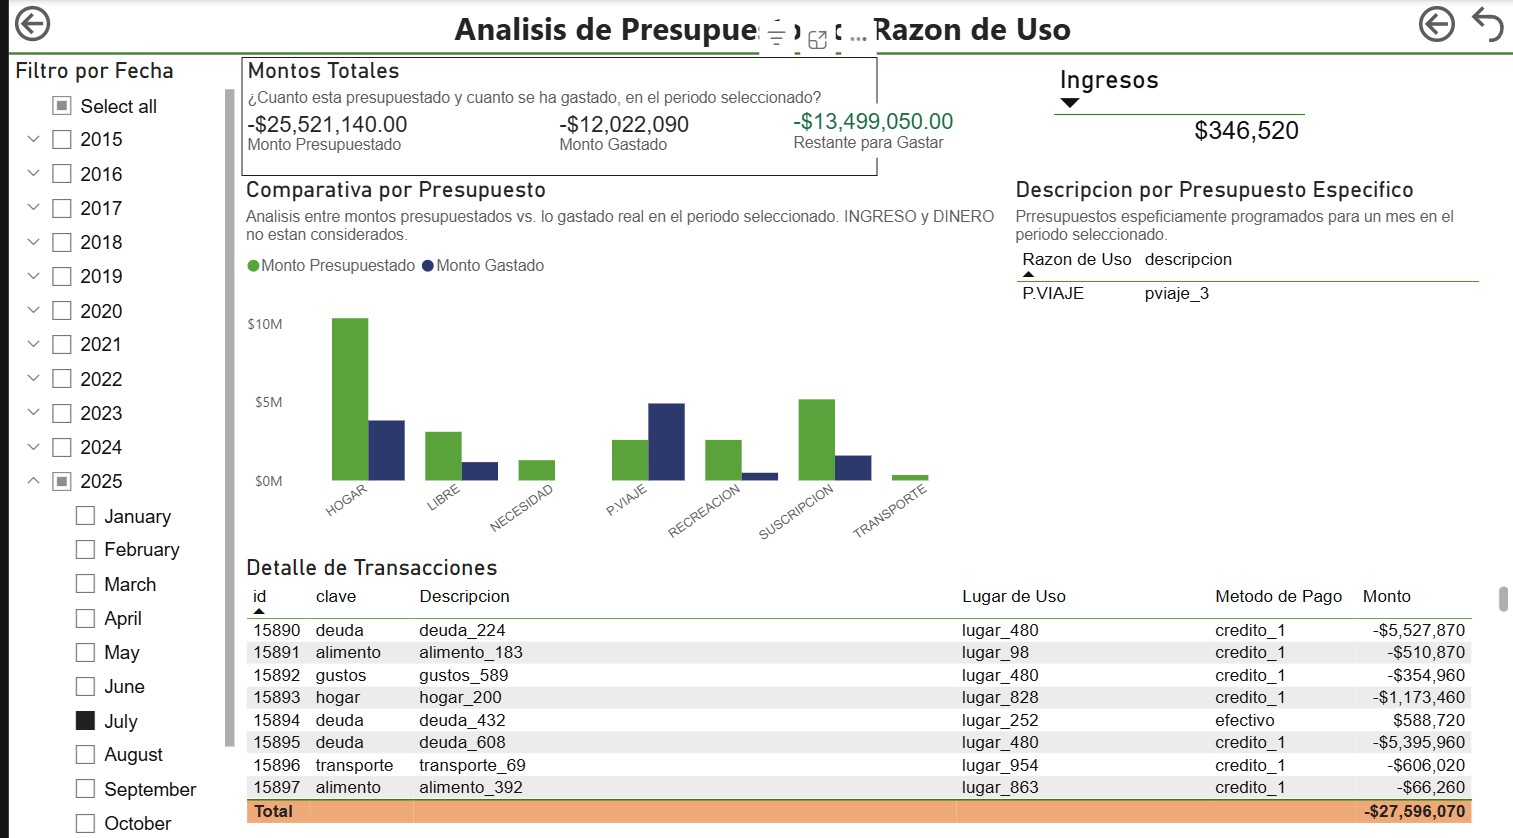

The page's visual inventory and layout, read from the dashboard file:
{"tool":"powerbi","page":{"name":"Reporte Presupuesto","canvas":[1280,720],"ordinal":2},"visuals":[{"type":"textbox","box":[259.8,0,760.4,48.1],"z":0,"group":"g1"},{"type":"tableEx","title":"Detalle de Transacciones","fields":{"Values":["c_diaria.id","c_diaria.clave","c_diaria.descripcion","c_diaria.lugar_de_uso","c_diaria.metodo_pago","Sum(c_diaria.monto)"]},"box":[195.9,470.2,1082.1,233.6],"z":0},{"type":"actionButton","box":[1235,0,44.6,40.7],"z":1000},{"type":"shape","box":[0,32.8,1280,24.6],"z":1000,"group":"g1"},{"type":"slicer","title":"Filtro por Fecha","fields":{"Values":["Calendario.Fecha.Variation.Date Hierarchy.Year","Calendario.Fecha.Variation.Date Hierarchy.Month"]},"box":[0,48.4,196.1,668.4],"z":2000},{"type":"tableEx","title":"Descripcion por Presupuesto Especifico","fields":{"Values":["presupuesto.razon_uso","presupuesto.descripcion"]},"box":[849.2,149,429.1,320.9],"z":3000},{"type":"group","id":"g1","title":"Title & Line","box":[0,0,1280,57.4],"z":4000},{"type":"actionButton","box":[1191.7,0,43.3,40.7],"z":5000},{"type":"actionButton","box":[0,0,100,40],"z":6000},{"type":"clusteredColumnChart","title":"Comparativa por Presupuesto","fields":{"Category":["dim_razon_uso.razon_uso"],"Y":["DAX measure.Monto Presupuestado(Visual)","DAX measure.Monto Gastado (Visual)"]},"box":[196.1,149,653.2,320.9],"z":7000},{"type":"multiRowCard","title":"Montos Totales","fields":{"Values":["DAX measure.Monto Presupuestado","DAX measure.Monto Gastado Dinamico"]},"box":[197.3,48.4,539.8,100.6],"z":8000},{"type":"multiRowCard","title":"Restante para Gastar","fields":{"Values":["DAX measure.Restante para Gastar"]},"box":[660.8,87.9,188.4,45.8],"z":9000},{"type":"tableEx","fields":{"Values":["Sum(c_diaria.monto)"]},"box":[881.1,48.4,250.8,90.4],"z":10000}]}

Visuals, with their boxes on the page's 1280x720 design canvas (x1, y1, x2, y2). These are canvas units, not pixel positions in the 1513x838 screenshot, which may show the page scaled, cropped or inside an application window:
textbox: <bbox>260, 0, 1020, 48</bbox>
"Detalle de Transacciones" tableEx: <bbox>196, 470, 1278, 704</bbox>
actionButton: <bbox>1235, 0, 1280, 41</bbox>
shape: <bbox>0, 33, 1280, 57</bbox>
"Filtro por Fecha" slicer: <bbox>0, 48, 196, 717</bbox>
"Descripcion por Presupuesto Especifico" tableEx: <bbox>849, 149, 1278, 470</bbox>
"Title & Line" group: <bbox>0, 0, 1280, 57</bbox>
actionButton: <bbox>1192, 0, 1235, 41</bbox>
actionButton: <bbox>0, 0, 100, 40</bbox>
"Comparativa por Presupuesto" clusteredColumnChart: <bbox>196, 149, 849, 470</bbox>
"Montos Totales" multiRowCard: <bbox>197, 48, 737, 149</bbox>
"Restante para Gastar" multiRowCard: <bbox>661, 88, 849, 134</bbox>
tableEx - Sum(c_diaria.monto): <bbox>881, 48, 1132, 139</bbox>
